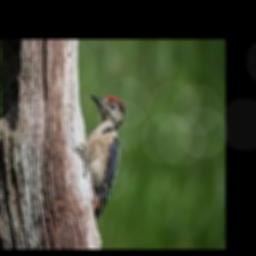Woodpecker: (85, 95, 125, 220)
